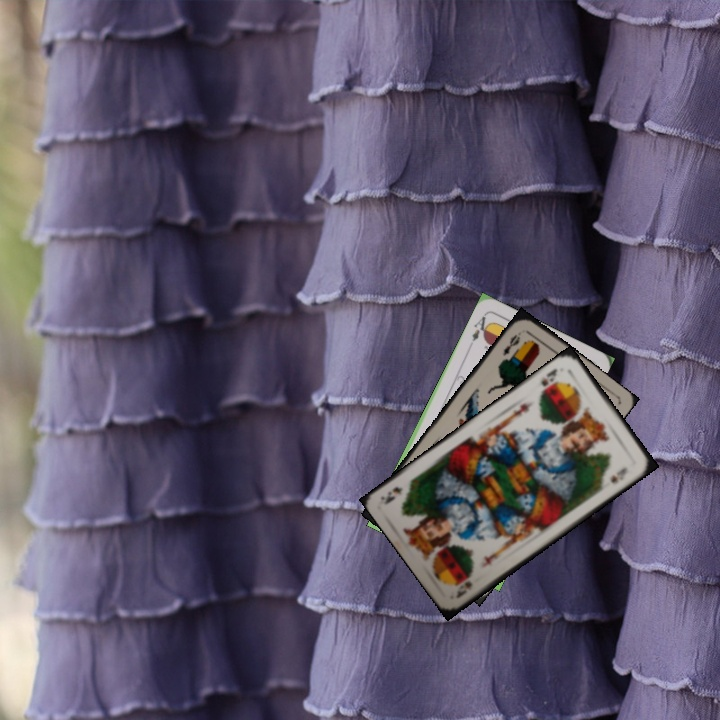EA: (466, 310, 493, 349)
EO: (499, 327, 524, 358)
SK: (451, 577, 475, 601), (537, 365, 560, 389)
